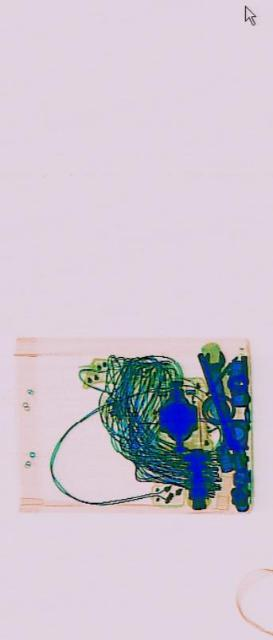Wrench: (200, 338, 243, 468)
